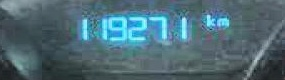1: (75, 15, 91, 41), (175, 14, 190, 40), (93, 16, 107, 41)
2: (127, 15, 147, 41)
7: (145, 14, 168, 40)
9: (107, 15, 127, 41)
X: (215, 14, 228, 27), (203, 11, 213, 27)
